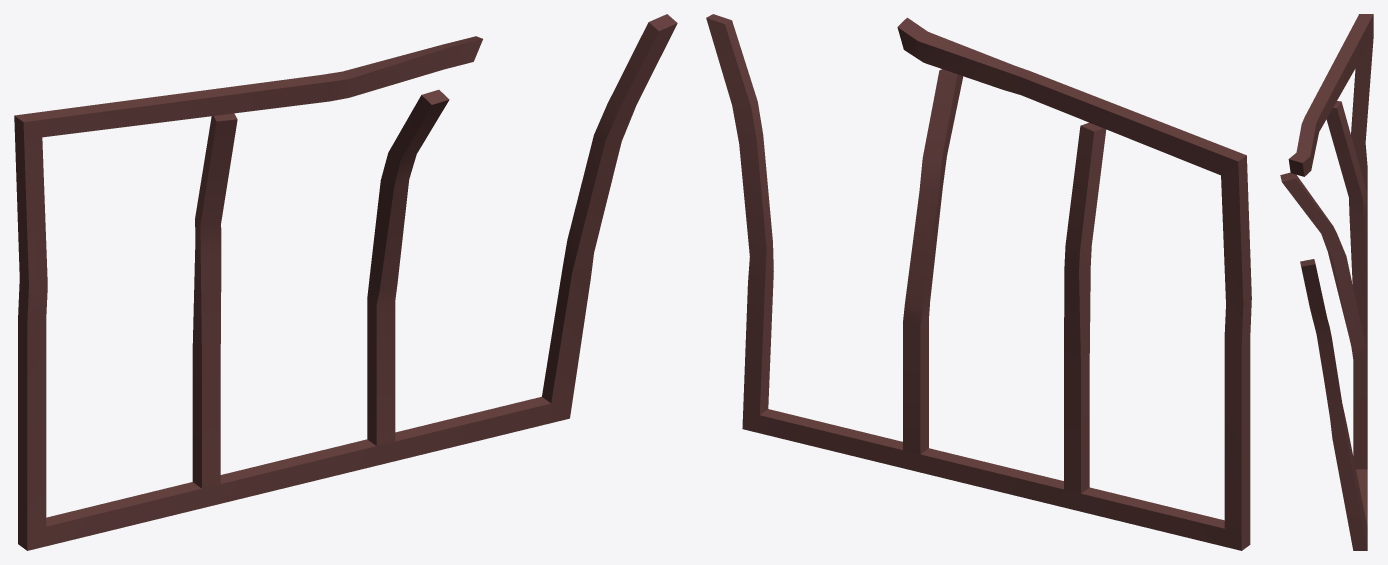
Rendered from DBK_WinWide_Metal_Tile.fbx.
3 renders of one model, left to right at view 1: azimuth 30°, elevation 25°; view 2: azimuth 150°, elevation 25°; view 3: azimuth 270°, elevation 25°, orthographic. The views are drawn at different scales.
Parts seen in each view (by area): view 1: DBK_WinWide_Metal_Tile; view 2: DBK_WinWide_Metal_Tile; view 3: DBK_WinWide_Metal_Tile.
Part boxes in pixels (bbox=[...]): DBK_WinWide_Metal_Tile: bbox=[14, 14, 677, 550]; DBK_WinWide_Metal_Tile: bbox=[706, 14, 1251, 550]; DBK_WinWide_Metal_Tile: bbox=[1280, 14, 1373, 550].
Size of the model in its own units: 182 by 124 by 30.68.
